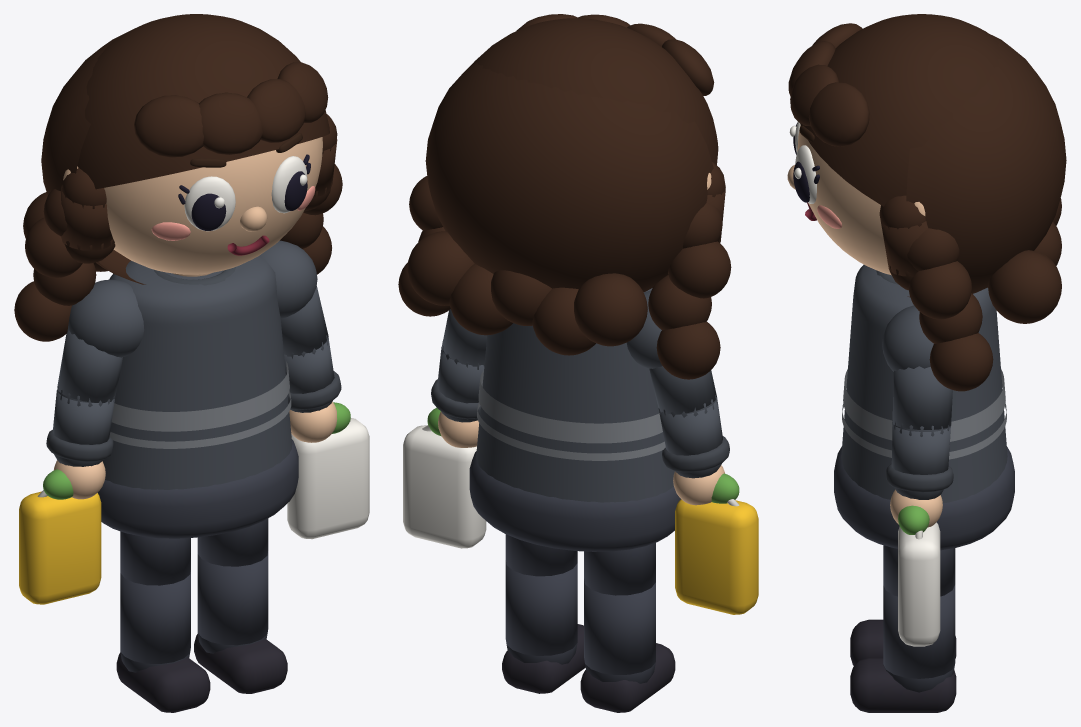
Rendered from ch_passer_gloomy.fbx.
3 renders of one model, left to right at view 1: azimuth 30°, elevation 25°; view 2: azimuth 150°, elevation 25°; view 3: azimuth 270°, elevation 25°, orthographic.
Parts seen in each view (by area): view 1: ch_passer_gloomy__base, ch_passer_gloomy__anim_arm_l, ch_passer_gloomy__anim_arm_r, ch_passer_gloomy__anim_leg_l, ch_passer_gloomy__anim_leg_r; view 2: ch_passer_gloomy__base, ch_passer_gloomy__anim_arm_l, ch_passer_gloomy__anim_arm_r, ch_passer_gloomy__anim_leg_l, ch_passer_gloomy__anim_leg_r; view 3: ch_passer_gloomy__base, ch_passer_gloomy__anim_arm_r, ch_passer_gloomy__anim_leg_r, ch_passer_gloomy__anim_leg_l.
Boxes of the visible parts, left/top/right/bottom form: ch_passer_gloomy__base: left=14, top=14, right=342, bottom=538; ch_passer_gloomy__anim_arm_l: left=19, top=330, right=122, bottom=604; ch_passer_gloomy__anim_arm_r: left=281, top=286, right=369, bottom=539; ch_passer_gloomy__anim_leg_l: left=116, top=531, right=210, bottom=712; ch_passer_gloomy__anim_leg_r: left=194, top=518, right=287, bottom=693; ch_passer_gloomy__base: left=398, top=14, right=731, bottom=551; ch_passer_gloomy__anim_arm_l: left=649, top=366, right=758, bottom=614; ch_passer_gloomy__anim_arm_r: left=403, top=309, right=487, bottom=548; ch_passer_gloomy__anim_leg_l: left=580, top=542, right=675, bottom=712; ch_passer_gloomy__anim_leg_r: left=502, top=534, right=585, bottom=693; ch_passer_gloomy__base: left=787, top=14, right=1066, bottom=550; ch_passer_gloomy__anim_arm_r: left=886, top=366, right=953, bottom=646; ch_passer_gloomy__anim_leg_r: left=850, top=545, right=956, bottom=712; ch_passer_gloomy__anim_leg_l: left=850, top=619, right=956, bottom=665.
Bounding box in the file's own units: 0.825 × 1.51 × 0.58.
